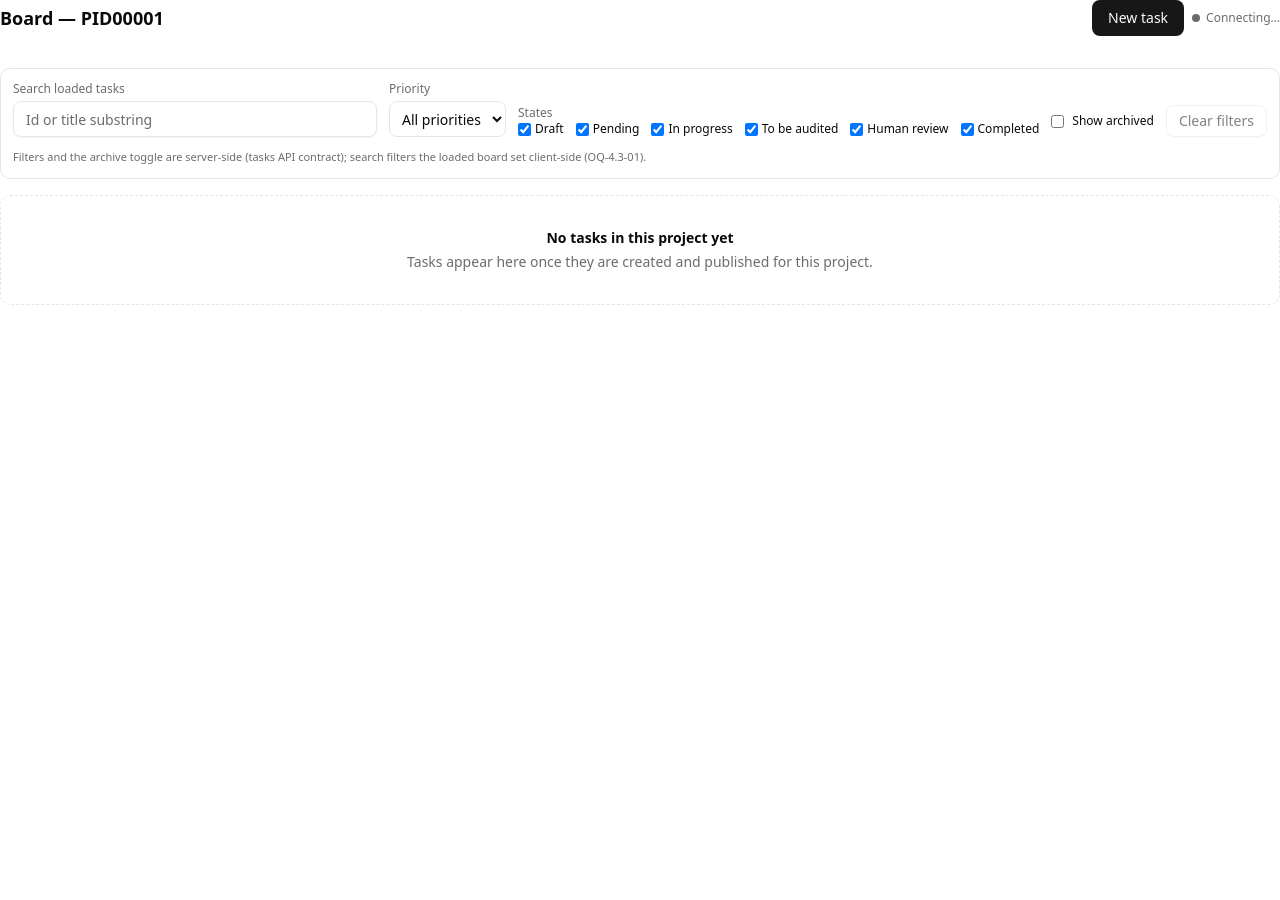
Test: task-form-modal › validates the required title locally and never posts an invalid payload
Click the button with test id "board-new-task" at (1138, 18), box [1092,0,1184,36]
(page scrolled)
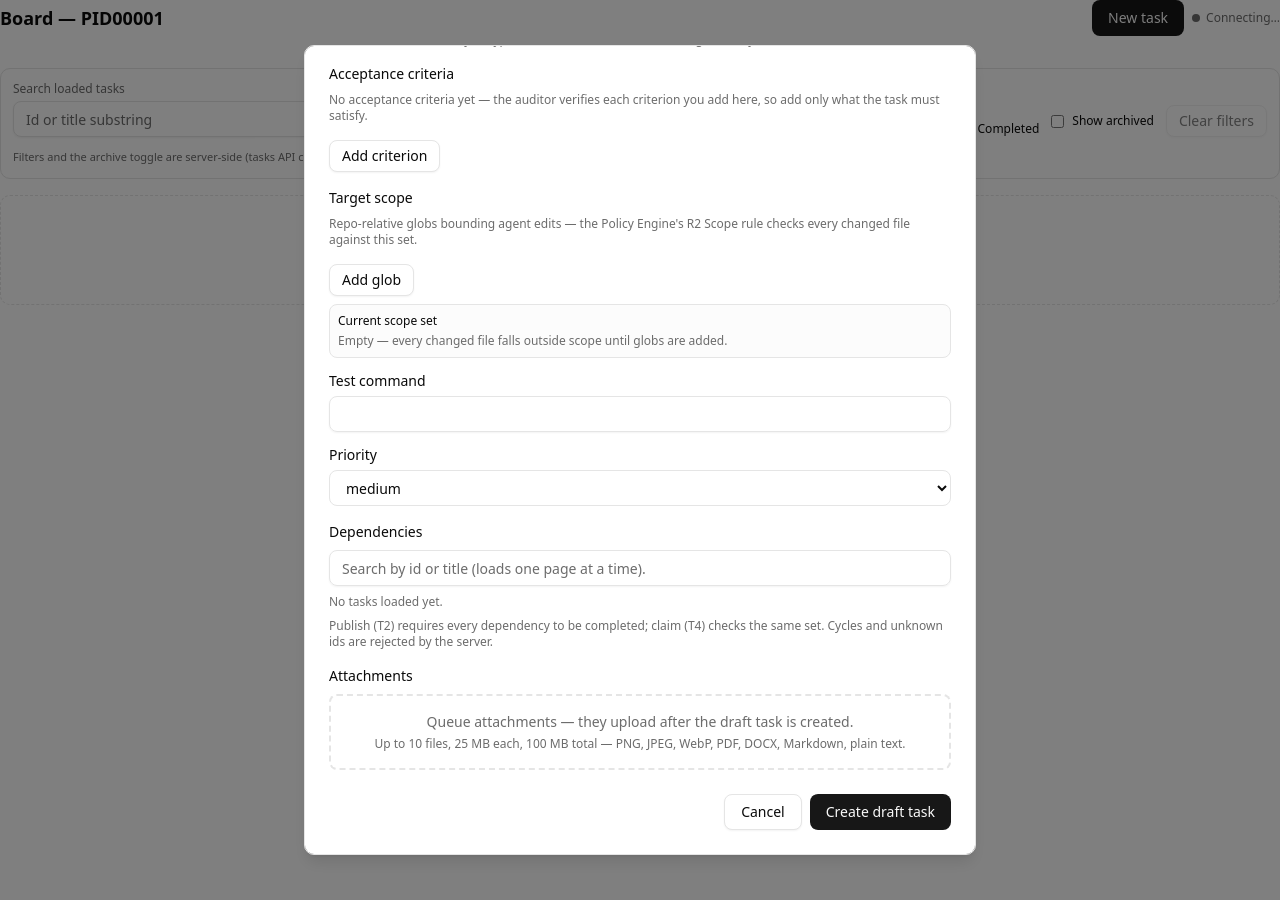
Expected: the dialog with test id "task-form-modal" is shown, [304,45,976,855]
Click the button with test id "task-form-submit" at (880, 812), box [810,794,951,830]
(page scrolled)
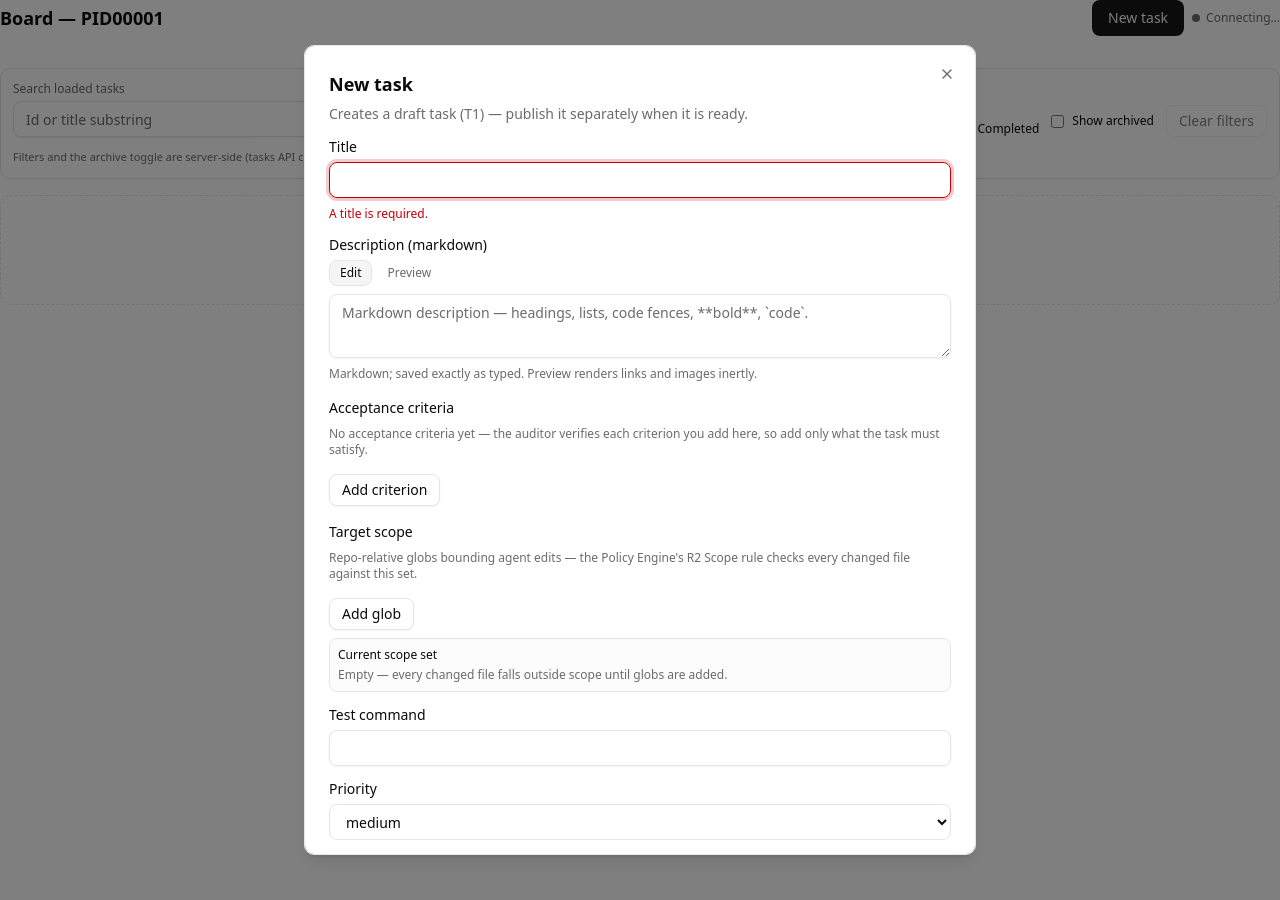
Expected: the text "A title is required." is shown, [329,205,428,222]
